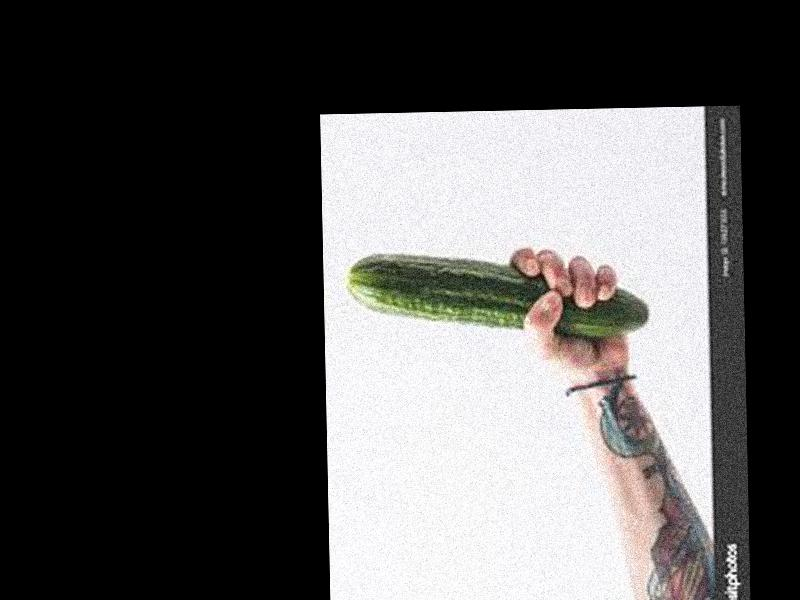Cucumber: (343, 247, 646, 341)
